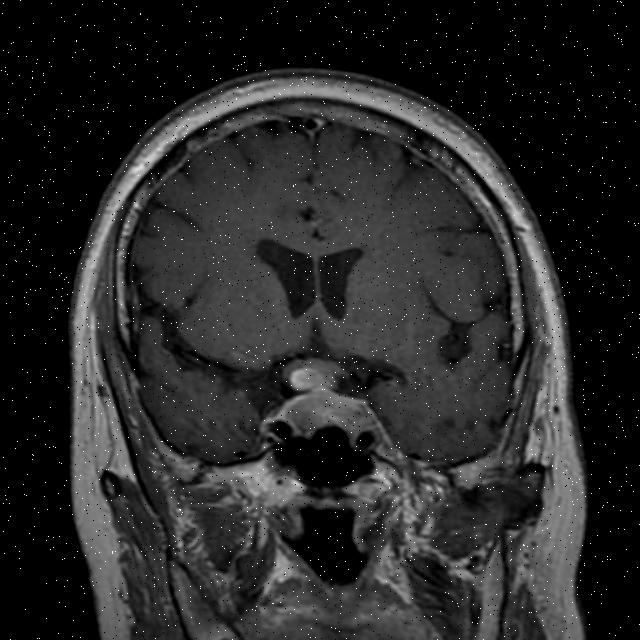Pituitary: (274, 352, 363, 448)
